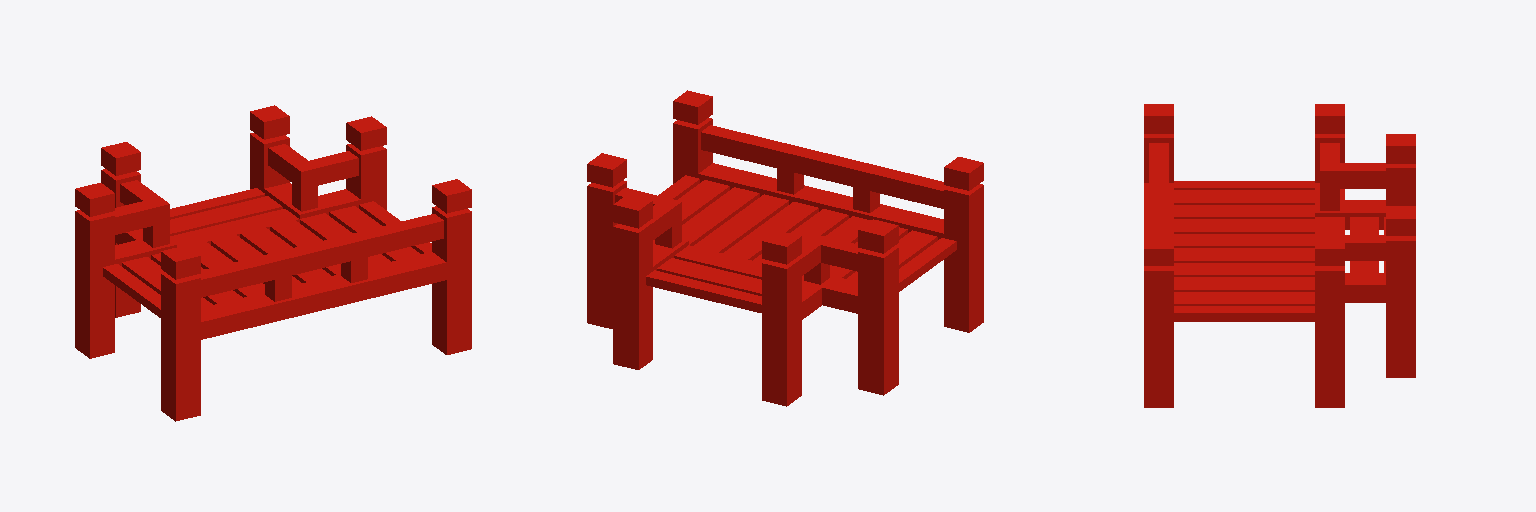
The picture shows the model from 3 angles: view 1: azimuth 30°, elevation 25°; view 2: azimuth 150°, elevation 25°; view 3: azimuth 270°, elevation 25°; orthographic projection.
Visible parts, largest first — view 1: cube; view 2: cube; view 3: cube.
Boxes of the visible parts, x1,y1,x2,y2 form: cube: [75, 105, 471, 421]; cube: [587, 90, 983, 406]; cube: [1144, 104, 1415, 407].
Bounding box in the file's own units: 1.09 × 0.5625 × 0.8672.
Materials: 1 (1 with a texture image).